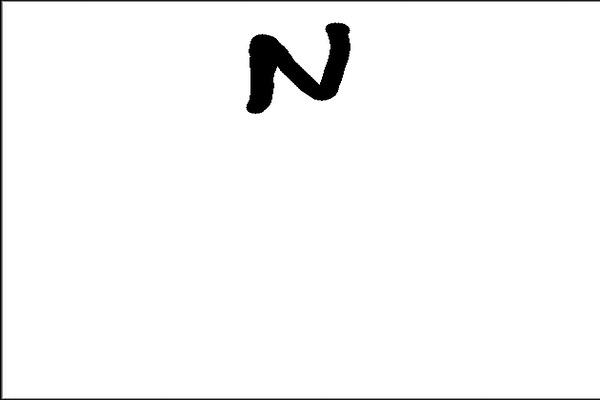N: (238, 14, 356, 119)
